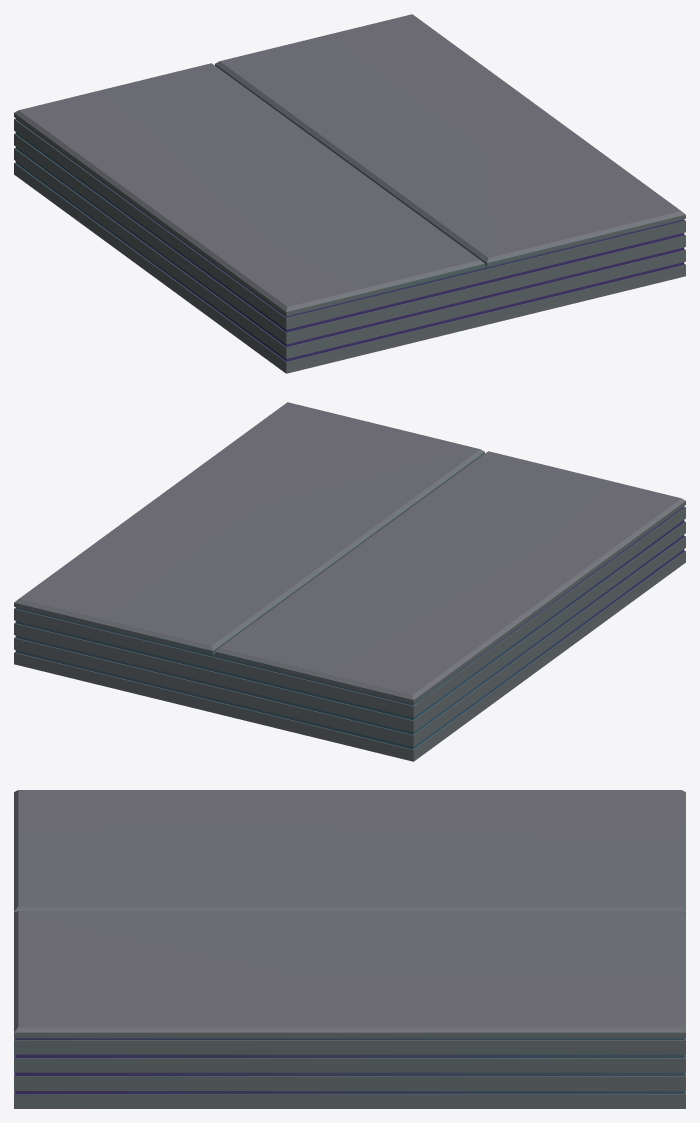
File: simready-consumable_absorbent_pad_stack_a01.glb
The picture shows the model from 3 angles, top to bottom: view 1: azimuth 30°, elevation 25°; view 2: azimuth 150°, elevation 25°; view 3: azimuth 270°, elevation 25°; orthographic projection. The views are drawn at different scales.
Parts seen in each view (by area): view 1: panel.001, panel, core; view 2: panel.001, panel, core; view 3: panel, panel.001, core.
Part boxes in pixels (bbox=[...]): panel.001: bbox=[14, 63, 484, 316]; panel: bbox=[215, 14, 685, 267]; core: bbox=[14, 118, 685, 373]; panel.001: bbox=[215, 451, 685, 704]; panel: bbox=[14, 402, 484, 655]; core: bbox=[14, 506, 685, 761]; panel: bbox=[14, 911, 685, 1037]; panel.001: bbox=[14, 790, 685, 912]; core: bbox=[14, 1038, 685, 1108].
Size of the model in its own units: 0.4 by 0.062 by 0.472.
